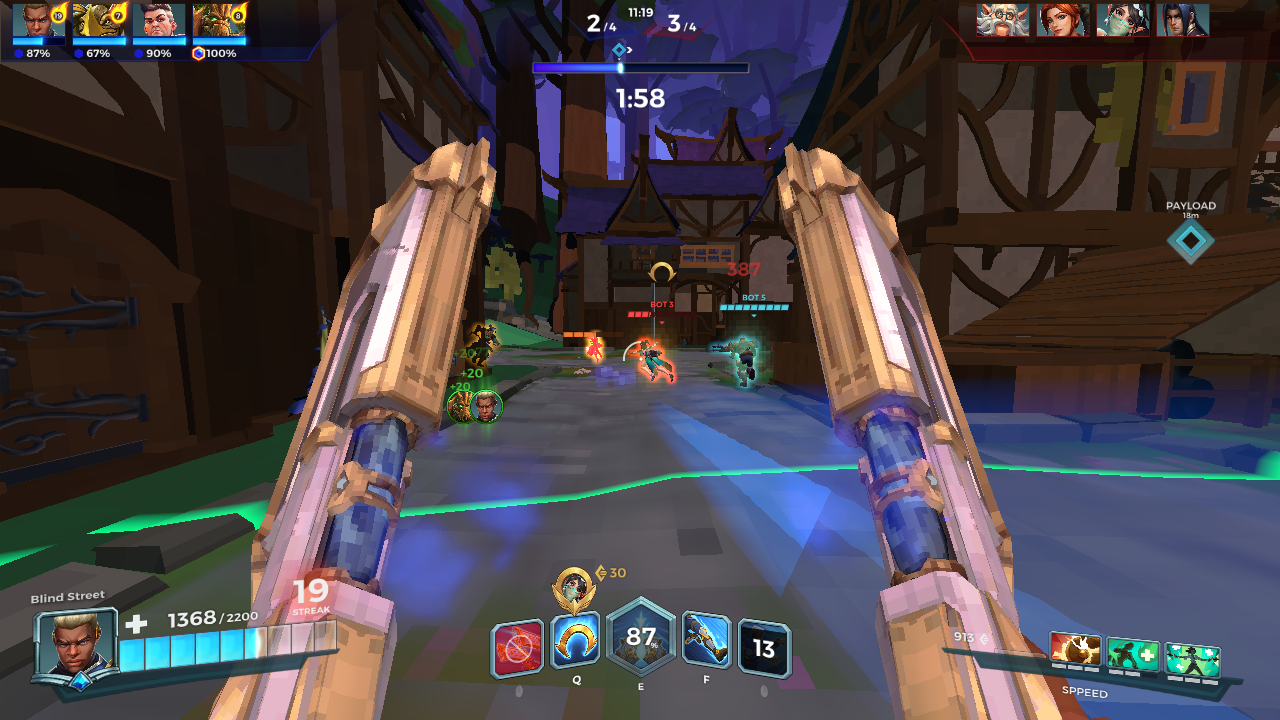model: (636, 334, 675, 385), (469, 318, 502, 372)
